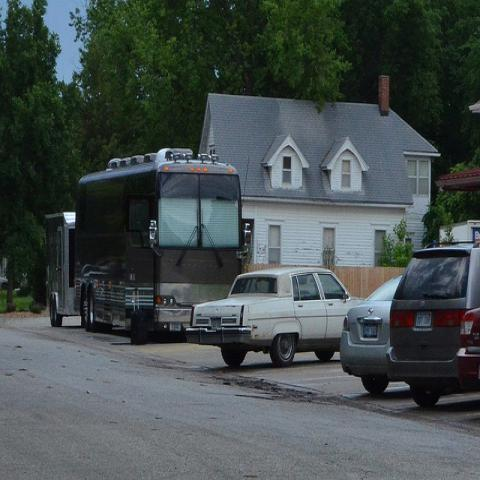bus: (74, 150, 253, 342)
car: (186, 265, 365, 366), (386, 237, 480, 409), (336, 270, 404, 394)
